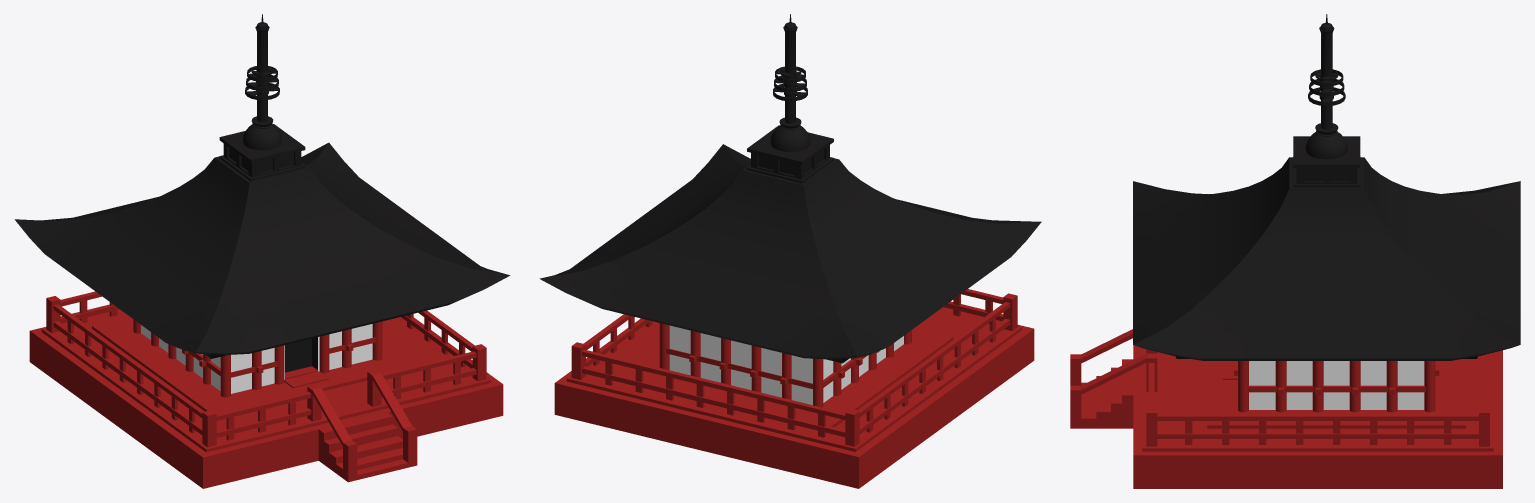
Rendered from Japon_Tapinak2.fbx.
3 views of the same model, side by side, from view 1: azimuth 30°, elevation 25°; view 2: azimuth 150°, elevation 25°; view 3: azimuth 270°, elevation 25° (orthographic). The views are drawn at different scales.
Parts seen in each view (by area): view 1: Japanese_Shrine001; view 2: Japanese_Shrine001; view 3: Japanese_Shrine001.
Part boxes in pixels (x1,y1,x2,y2): Japanese_Shrine001: (14, 14, 510, 488); Japanese_Shrine001: (539, 14, 1041, 488); Japanese_Shrine001: (1070, 14, 1520, 488).
Size of the model in its own units: 825 by 932 by 959.
